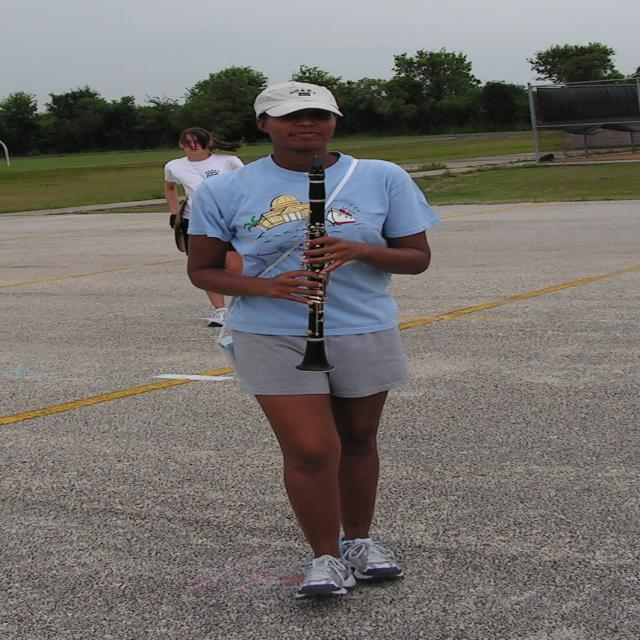clarinet: (291, 150, 346, 374)
